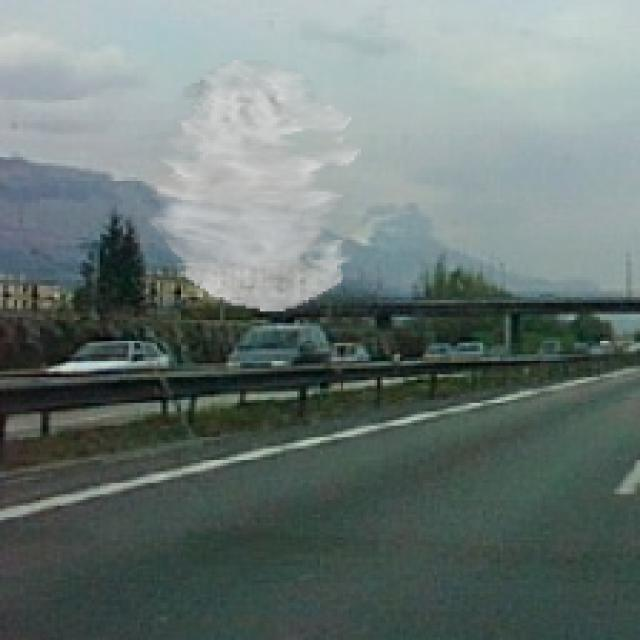smoke: (146, 60, 360, 311)
